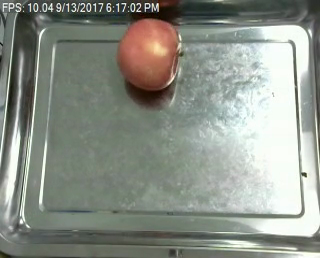Apple: (117, 18, 183, 91)
